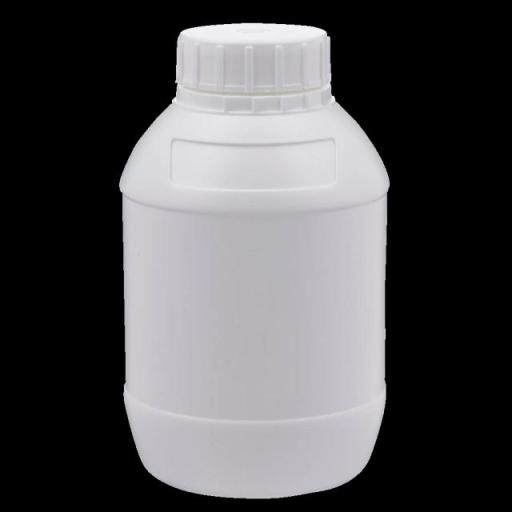plastic: (110, 13, 394, 502)
